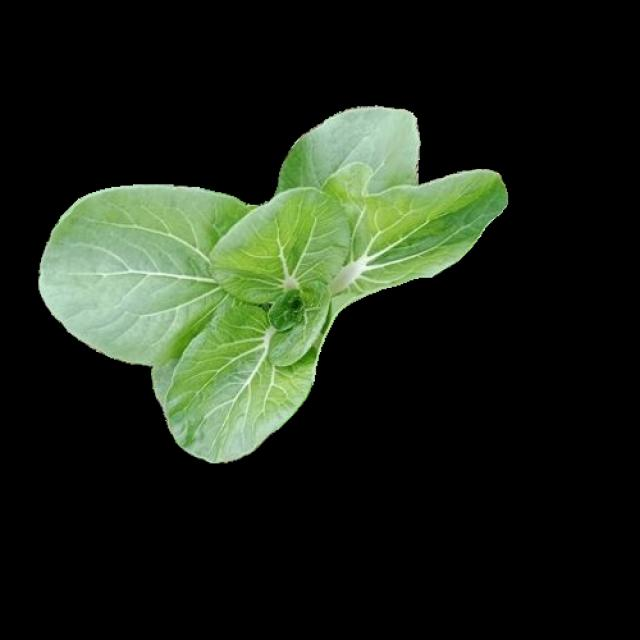healthy: (41, 105, 508, 457)
mature: (43, 105, 507, 459)
